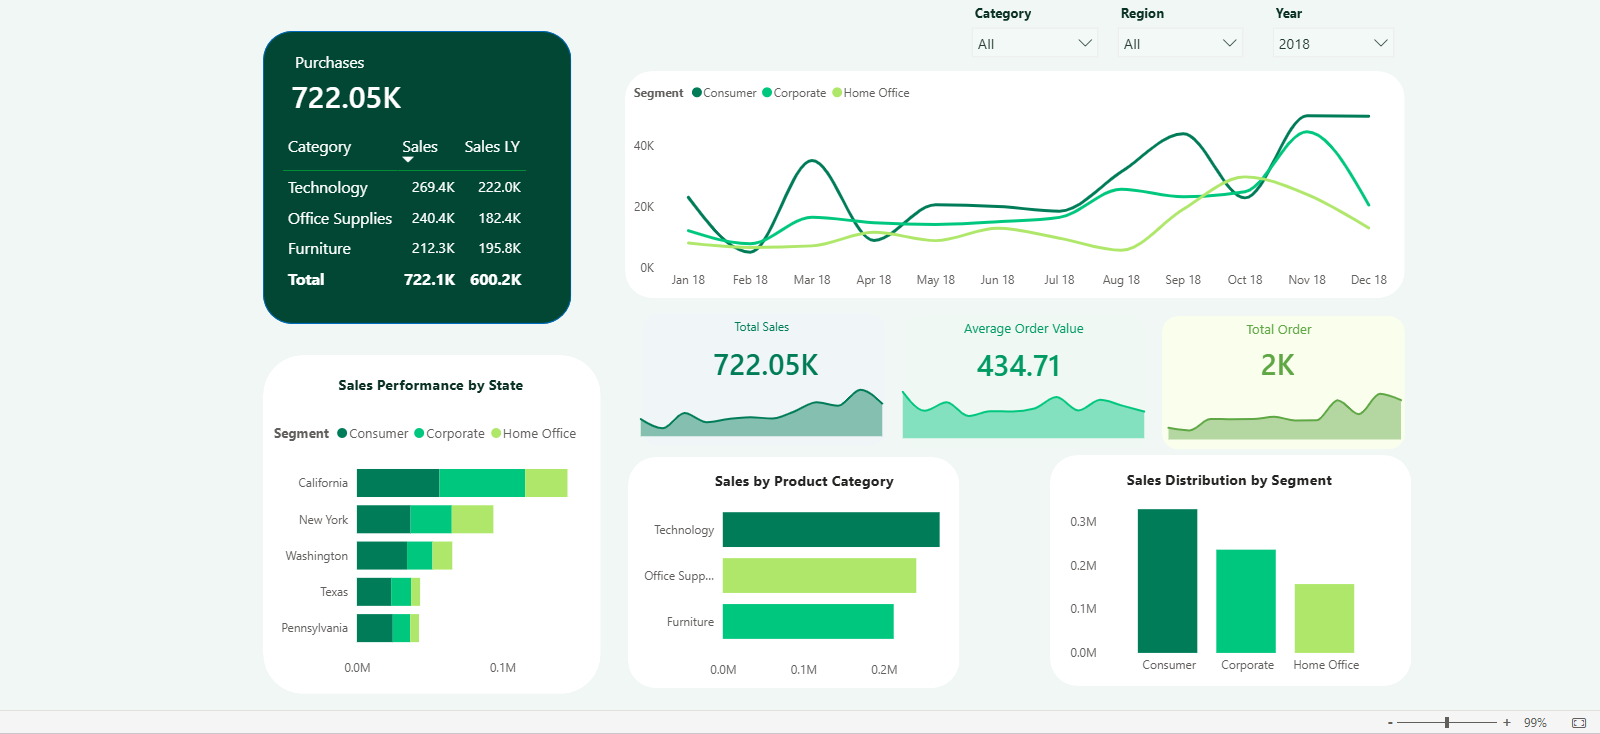

The page's visual inventory and layout, read from the dashboard file:
{"tool":"powerbi","page":{"name":"Executive Overview","canvas":[1280,720],"ordinal":0},"visuals":[{"type":"shape","box":[96.1,32.5,312.4,296.6],"z":0,"group":"g5"},{"type":"shape","box":[463.1,72.8,789.6,230],"z":0,"group":"g4"},{"type":"shape","box":[745.4,320,245.9,135.1],"z":0,"group":"g2"},{"type":"shape","box":[1005.6,321.3,245.9,135.1],"z":0,"group":"g3"},{"type":"shape","box":[893.7,461.8,365.9,234],"z":0,"group":"g7"},{"type":"cardVisual","fields":{"Data":["Sum(train.Sales)"]},"box":[96.1,57.2,250.2,80.7],"z":500,"group":"g5"},{"type":"slicer","fields":{"Values":["train.Category"]},"box":[803.9,0,148.3,72.8],"z":1000,"group":"g9"},{"type":"textbox","box":[739.5,318.7,252.7,45],"z":1000,"group":"g2"},{"type":"textbox","box":[999.8,320,252.7,45],"z":1000,"group":"g3"},{"type":"shape","box":[466.2,463.9,335.6,234.2],"z":1000,"group":"g6"},{"type":"clusteredColumnChart","fields":{"Category":["train.Segment"],"Y":["train.Total Sales"]},"box":[909.1,493.5,333,199],"z":1000,"group":"g7"},{"type":"slicer","fields":{"Values":["train.Region"]},"box":[952.2,0,147,72.8],"z":1500,"group":"g9"},{"type":"textbox","box":[909.1,470.9,333,48.1],"z":1500,"group":"g7"},{"type":"textbox","box":[478.3,471.7,333,48.1],"z":1500,"group":"g6"},{"type":"slicer","fields":{"Values":["DateTable.Year"]},"box":[1108.3,0,143.1,72.8],"z":2000,"group":"g9"},{"type":"textbox","box":[123.6,47.4,222.4,50.7],"z":2000,"group":"g5"},{"type":"shape","box":[480,318.8,245.9,135.2],"z":2000,"group":"g1"},{"type":"lineChart","fields":{"Y":["train.Average Order Value"],"Category":["DateTable.Month-Year"]},"box":[729.8,383.3,272.3,66.9],"z":2000,"group":"g2"},{"type":"lineChart","fields":{"Y":["train.Total Order"],"Category":["DateTable.Month-Year"]},"box":[999,385.7,262.8,66.3],"z":2000,"group":"g3"},{"type":"barChart","fields":{"Category":["train.Category"],"Y":["train.Total Sales"]},"box":[465.3,488.6,335.6,209.4],"z":2000,"group":"g6"},{"type":"lineChart","fields":{"Y":["Sum(train.Sales)"],"Category":["DateTable.Month-Year"]},"box":[464.4,382,272.3,66.9],"z":2500,"group":"g1"},{"type":"cardVisual","fields":{"Data":["train.Total Sales"]},"box":[517.2,335.1,176.9,66.3],"z":2750,"group":"g1"},{"type":"lineChart","fields":{"Y":["train.Total Sales"],"Series":["train.Segment"],"Category":["DateTable.Month-Year"]},"box":[466.8,75.3,779.2,227.6],"z":3000,"group":"g4"},{"type":"pivotTable","fields":{"Values":["Sum(train.Sales)","train.Sales LY"],"Rows":["train.Category"]},"box":[111.7,122.3,278.4,196.4],"z":3000,"group":"g5"},{"type":"textbox","box":[474.1,317.4,252.7,45],"z":3000,"group":"g1"},{"type":"cardVisual","fields":{"Data":["train.Total Order"]},"box":[1077,334.2,117.1,66.3],"z":3000,"group":"g3"},{"type":"cardVisual","fields":{"Data":["train.Average Order Value"]},"box":[789.7,335.2,177.7,66.9],"z":3000,"group":"g2"},{"type":"shape","box":[96.3,360.3,342.1,343.4],"z":3000,"group":"g8"},{"type":"textbox","box":[95.3,374.2,342.1,49.4],"z":4000,"group":"g8"},{"type":"barChart","fields":{"Category":["train.State"],"Y":["Sum(train.Sales)"],"Series":["train.Segment"]},"box":[102.8,418.8,329.1,277.1],"z":5000,"group":"g8"},{"type":"group","id":"g1","title":"Group 1","box":[464.4,317.4,272.3,136.6],"z":5500},{"type":"group","id":"g2","title":"Group 2","box":[729.8,318.7,271.9,136.6],"z":6000},{"type":"group","id":"g3","title":"Group 3","box":[999,320,262.8,136.6],"z":7000},{"type":"group","id":"g4","title":"Group 4","box":[463.1,72.8,789.6,230.2],"z":8000},{"type":"group","id":"g5","title":"Group 5","box":[96.1,32.5,312.4,296.6],"z":9000},{"type":"group","id":"g6","title":"Group 6","box":[465.3,463.9,346,234.2],"z":10000},{"type":"group","id":"g7","title":"Group 7","box":[893.7,461.8,365.5,234.2],"z":11000},{"type":"group","id":"g8","title":"Group 8","box":[95.3,360.3,343.1,343.4],"z":12000},{"type":"group","id":"g9","title":"Group 9","box":[803.9,0,447.5,72.8],"z":13001}]}

Visuals, with their boxes on the page's 1280x720 design canvas (x1, y1, x2, y2). These are canvas units, not pixel positions in the 1600x734 screenshot, which may show the page scaled, cropped or inside an application window:
shape: detection(96, 32, 408, 329)
shape: detection(463, 73, 1253, 303)
shape: detection(745, 320, 991, 455)
shape: detection(1006, 321, 1252, 456)
shape: detection(894, 462, 1260, 696)
cardVisual - Sum(train.Sales): detection(96, 57, 346, 138)
slicer - train.Category: detection(804, 0, 952, 73)
textbox: detection(740, 319, 992, 364)
textbox: detection(1000, 320, 1252, 365)
shape: detection(466, 464, 802, 698)
clusteredColumnChart - train.Segment x train.Total Sales: detection(909, 494, 1242, 692)
slicer - train.Region: detection(952, 0, 1099, 73)
textbox: detection(909, 471, 1242, 519)
textbox: detection(478, 472, 811, 520)
slicer - DateTable.Year: detection(1108, 0, 1251, 73)
textbox: detection(124, 47, 346, 98)
shape: detection(480, 319, 726, 454)
lineChart - train.Average Order Value x DateTable.Month-Year: detection(730, 383, 1002, 450)
lineChart - train.Total Order x DateTable.Month-Year: detection(999, 386, 1262, 452)
barChart - train.Category x train.Total Sales: detection(465, 489, 801, 698)
lineChart - Sum(train.Sales) x DateTable.Month-Year: detection(464, 382, 737, 449)
cardVisual - train.Total Sales: detection(517, 335, 694, 401)
lineChart - train.Total Sales x train.Segment: detection(467, 75, 1246, 303)
pivotTable - Sum(train.Sales) x train.Sales LY: detection(112, 122, 390, 319)
textbox: detection(474, 317, 727, 362)
cardVisual - train.Total Order: detection(1077, 334, 1194, 400)
cardVisual - train.Average Order Value: detection(790, 335, 967, 402)
shape: detection(96, 360, 438, 704)
textbox: detection(95, 374, 437, 424)
barChart - train.State x Sum(train.Sales): detection(103, 419, 432, 696)
"Group 1" group: detection(464, 317, 737, 454)
"Group 2" group: detection(730, 319, 1002, 455)
"Group 3" group: detection(999, 320, 1262, 457)
"Group 4" group: detection(463, 73, 1253, 303)
"Group 5" group: detection(96, 32, 408, 329)
"Group 6" group: detection(465, 464, 811, 698)
"Group 7" group: detection(894, 462, 1259, 696)
"Group 8" group: detection(95, 360, 438, 704)
"Group 9" group: detection(804, 0, 1251, 73)
